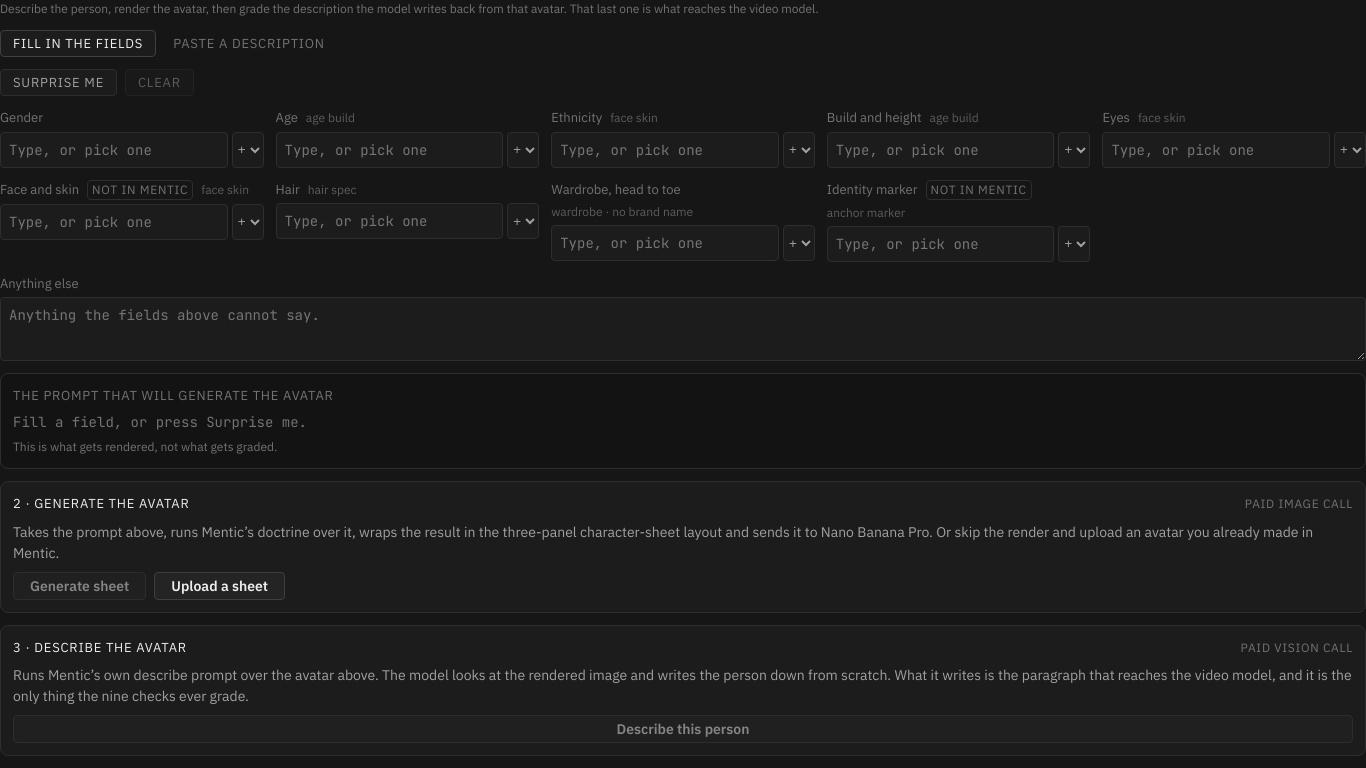
Test: AvatarComposer › fills the whole form from Surprise me, and Clear empties it again
Click the button "Surprise me" at (58, 82), box [0,69,117,96]
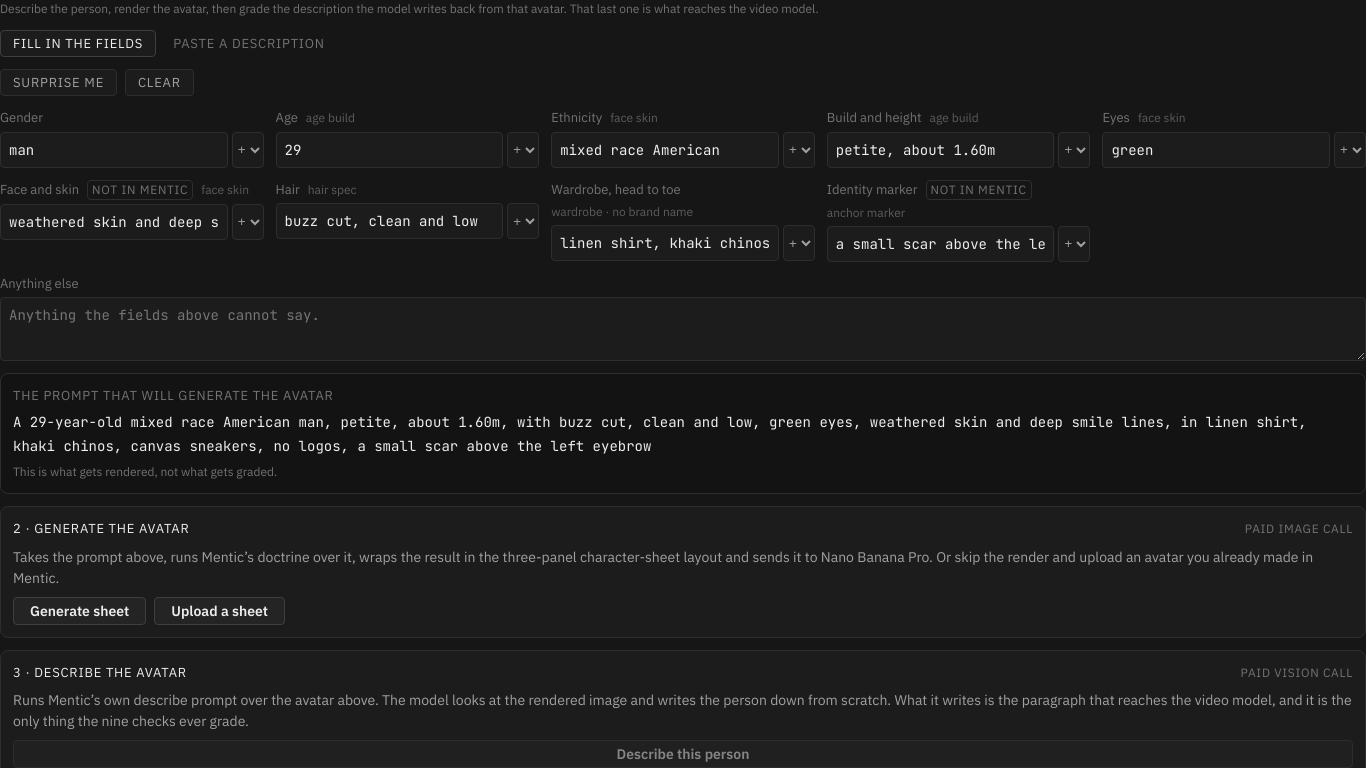
expect the field labelled "Gender" is not empty: met, box [0,132,228,168]
expect the field labelled "Wardrobe, head to toe" is not empty: met, box [551,225,779,261]
Click the button "Clear" at (159, 82), box [125,69,194,96]
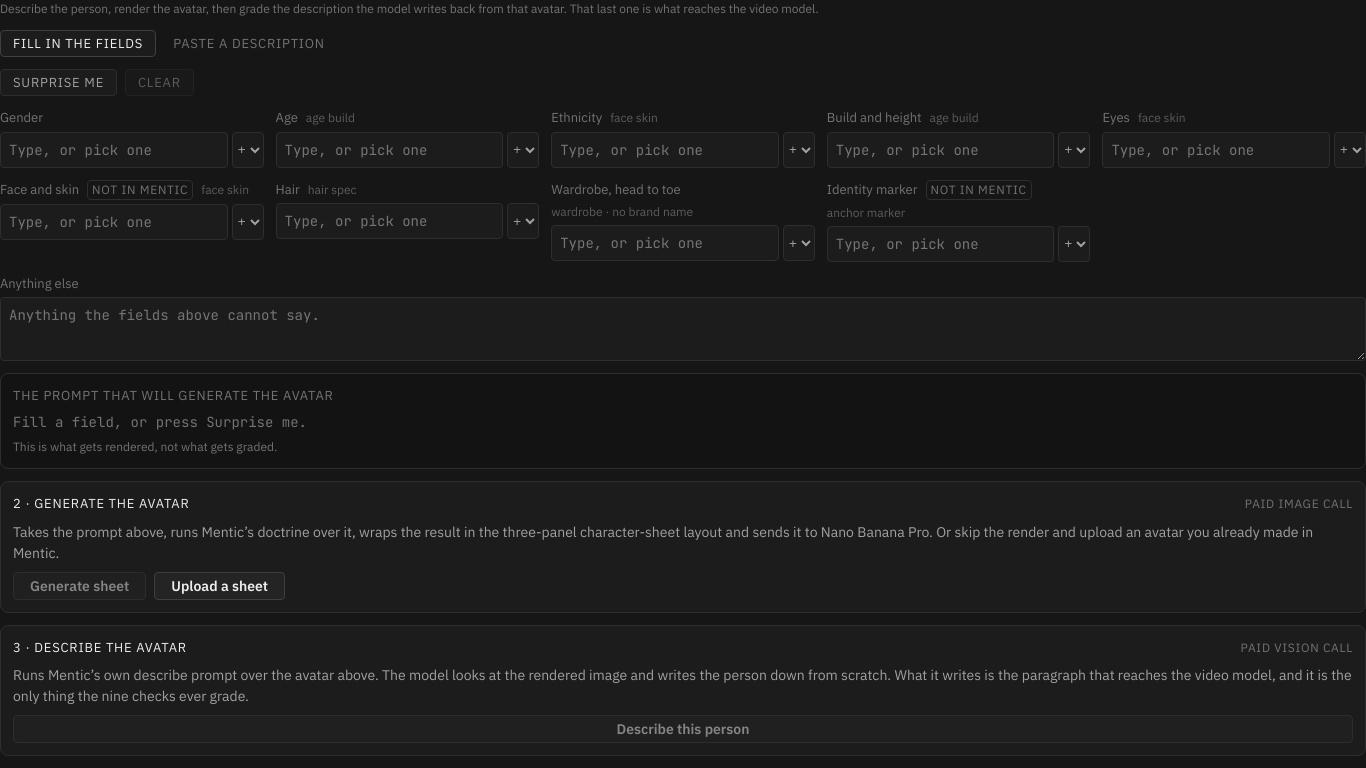
expect the field labelled "Gender" is empty: met, box [0,132,228,168]
